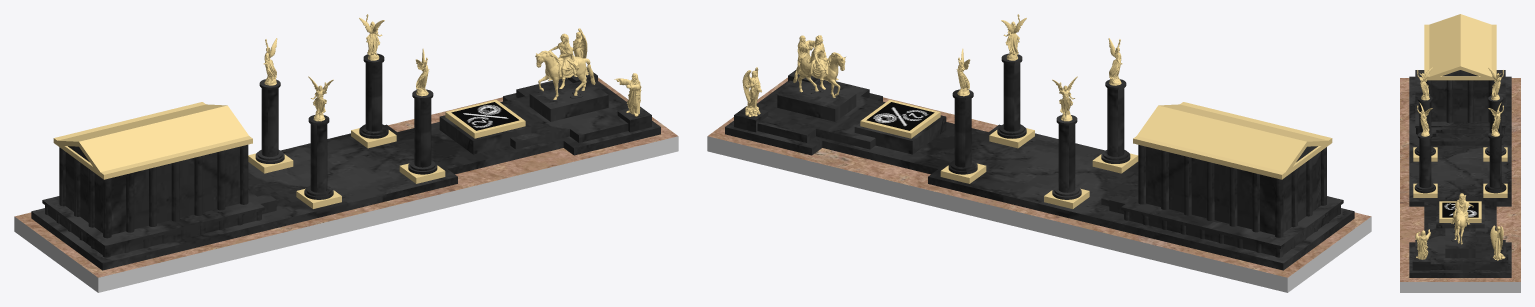
File: buildingForoRomano.glb
3 renders of one model, left to right at view 1: azimuth 30°, elevation 25°; view 2: azimuth 150°, elevation 25°; view 3: azimuth 270°, elevation 25°, orthographic. The views are drawn at different scales.
Parts seen in each view (by area): view 1: ForoRomano; view 2: ForoRomano; view 3: ForoRomano.
Part boxes in pixels (x1,y1,x2,y2): ForoRomano: (14, 14, 678, 292); ForoRomano: (707, 14, 1371, 292); ForoRomano: (1400, 14, 1520, 292).
Size of the model in its own units: 8 by 1.89 by 2.
5 materials, 3 textured.
